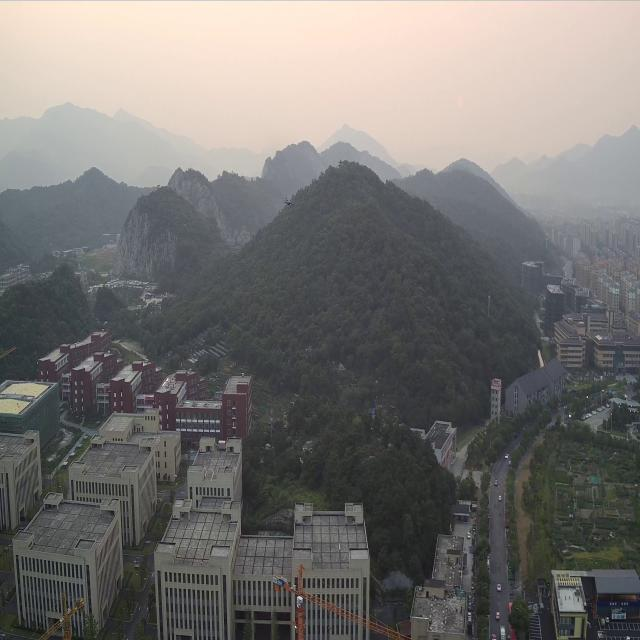UAV: (284, 197, 294, 207)
